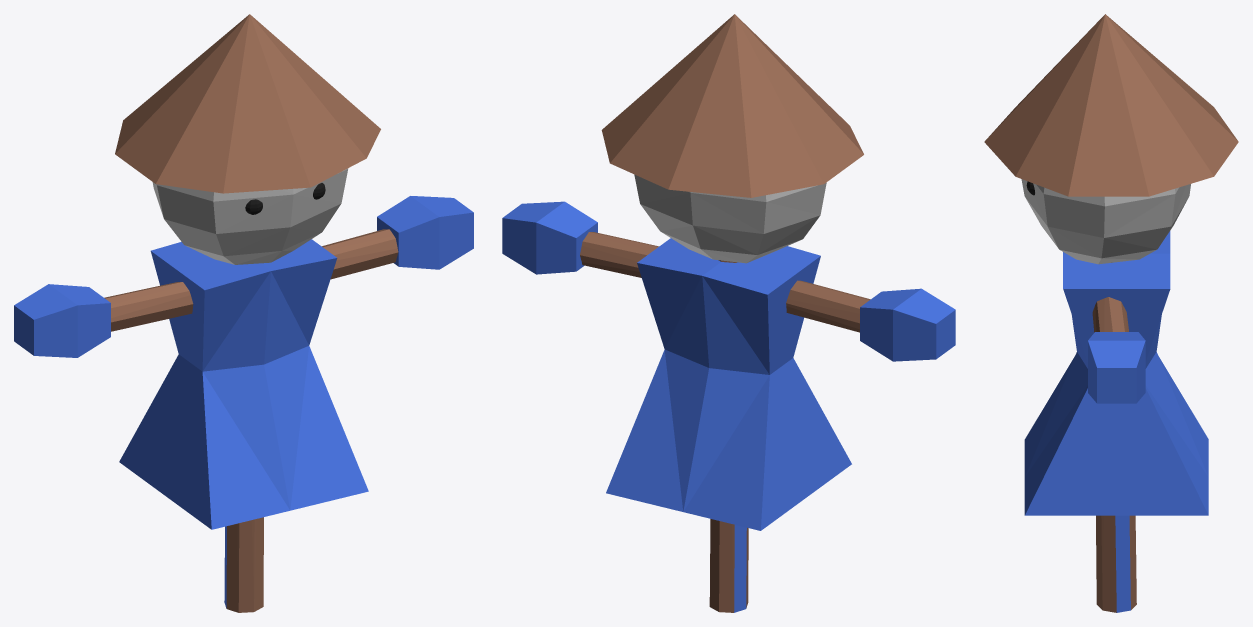
File: Scarecrow.fbx
3 views of the same model, side by side, from view 1: azimuth 30°, elevation 25°; view 2: azimuth 150°, elevation 25°; view 3: azimuth 270°, elevation 25° (orthographic).
Parts seen in each view (by area): view 1: 球; view 2: 球; view 3: 球.
Part boxes in pixels (x1,y1,x2,y2): 球: (14, 14, 473, 612); 球: (502, 14, 955, 612); 球: (984, 14, 1238, 612).
Size of the model in its own units: 1.3 by 1.68 by 0.6564.
